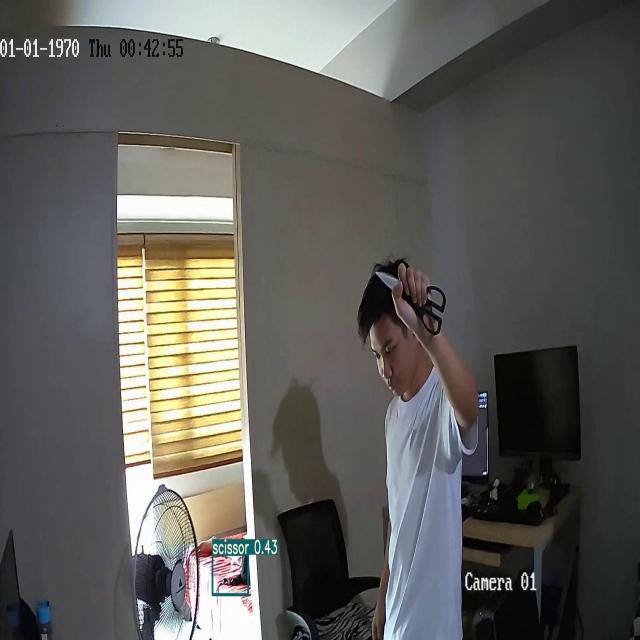scissor: (375, 270, 446, 336)
